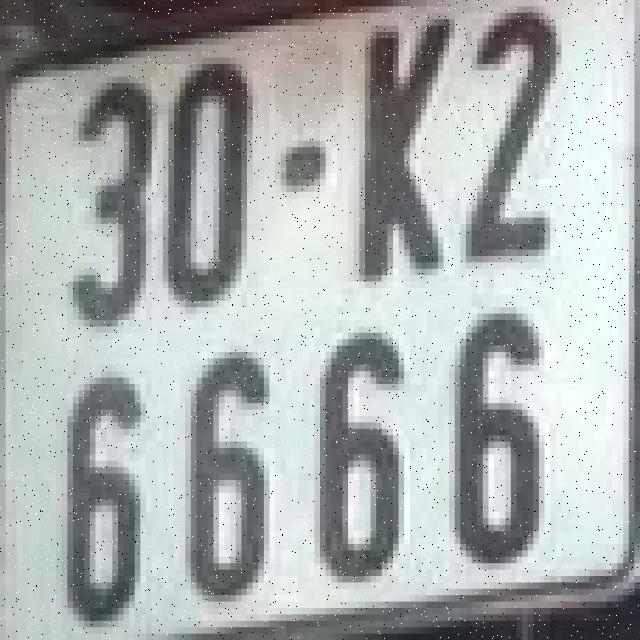0: (160, 64, 250, 307)
2: (463, 6, 559, 262)
3: (70, 80, 154, 323)
6: (447, 307, 548, 563), (312, 327, 407, 582), (182, 349, 272, 598), (62, 374, 146, 624)
K: (354, 12, 449, 282)
